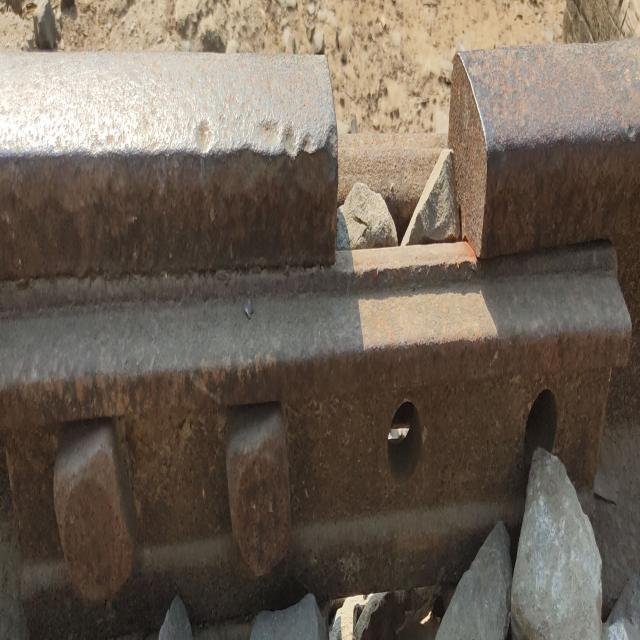railway_join_bar_defects_high: (294, 49, 504, 568)
